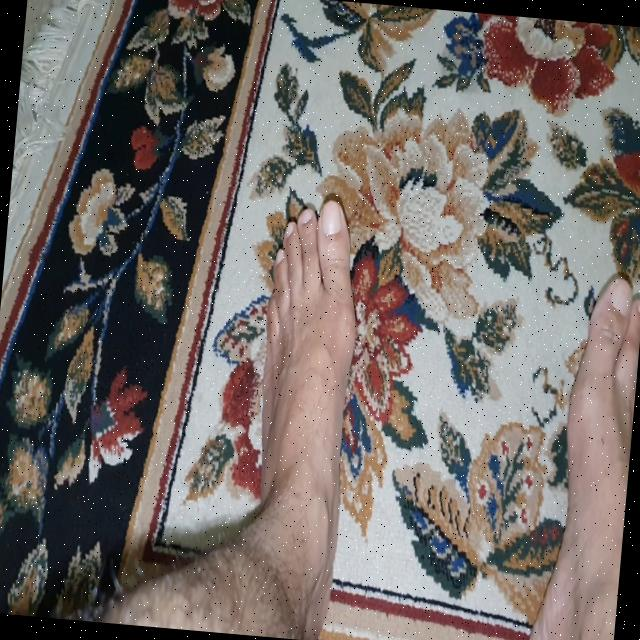no-boots: (227, 186, 375, 640), (517, 268, 640, 640)
